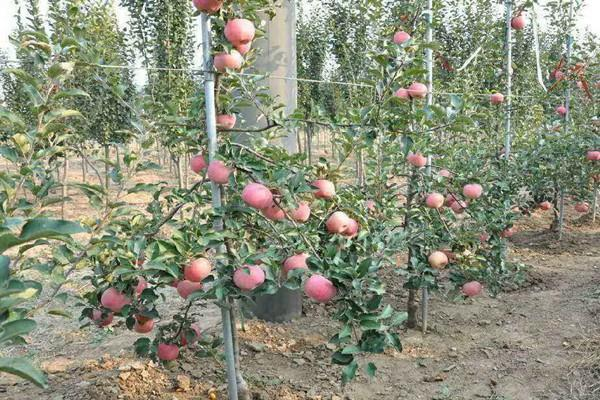apple: (241, 183, 274, 210), (222, 19, 254, 45), (232, 264, 264, 290), (304, 275, 334, 301), (102, 287, 132, 311), (212, 50, 243, 72), (184, 256, 210, 282), (206, 160, 231, 184), (262, 201, 288, 222), (175, 278, 202, 298), (310, 178, 334, 199), (157, 341, 180, 361), (326, 211, 348, 231), (286, 255, 311, 272), (461, 181, 483, 199), (289, 201, 309, 220), (427, 251, 447, 268), (425, 192, 443, 208)
